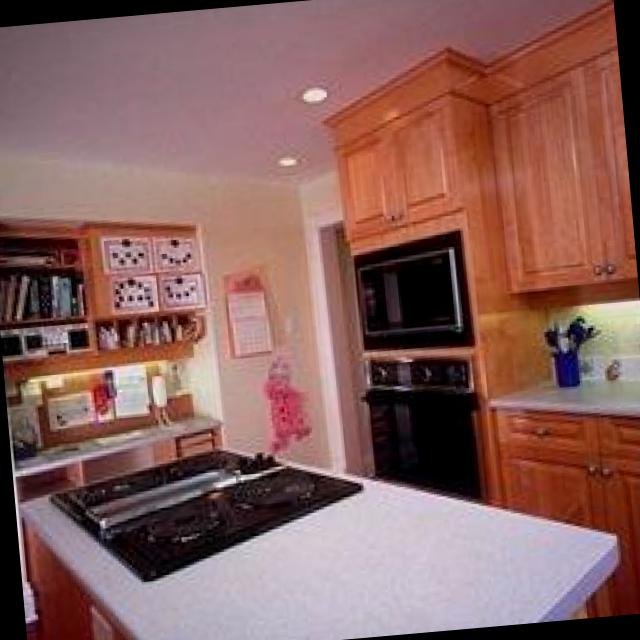pots: (553, 347, 582, 388)
shelf: (493, 391, 640, 624)
table: (16, 413, 627, 640)
